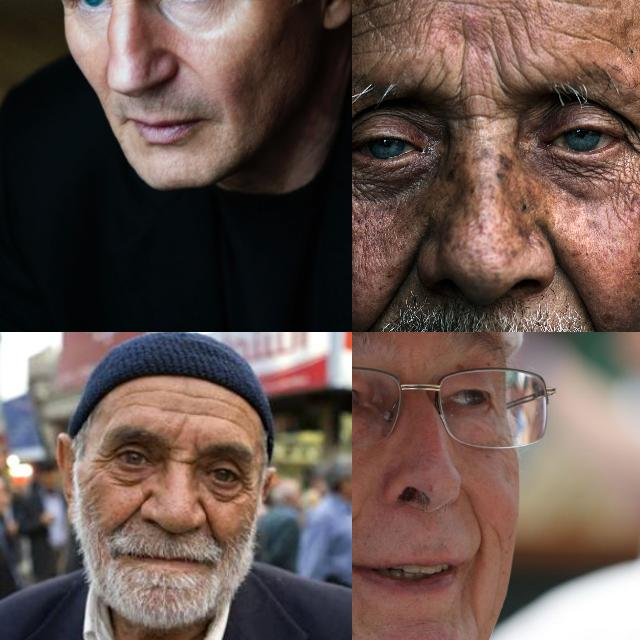chin: (468, 600, 487, 634), (352, 614, 359, 639)
crows_feet: (91, 448, 115, 476), (238, 475, 254, 501)
forehead: (498, 4, 566, 72), (352, 8, 426, 62), (451, 18, 474, 76), (170, 402, 208, 426), (169, 382, 209, 404), (122, 396, 164, 414), (122, 382, 160, 398), (212, 409, 244, 428), (216, 394, 246, 414)
frown_line: (448, 91, 512, 131), (170, 446, 196, 466)
gummy_smile: (542, 226, 594, 314), (381, 238, 429, 312), (461, 497, 489, 548), (114, 492, 142, 530), (200, 498, 218, 542), (352, 503, 360, 536)
